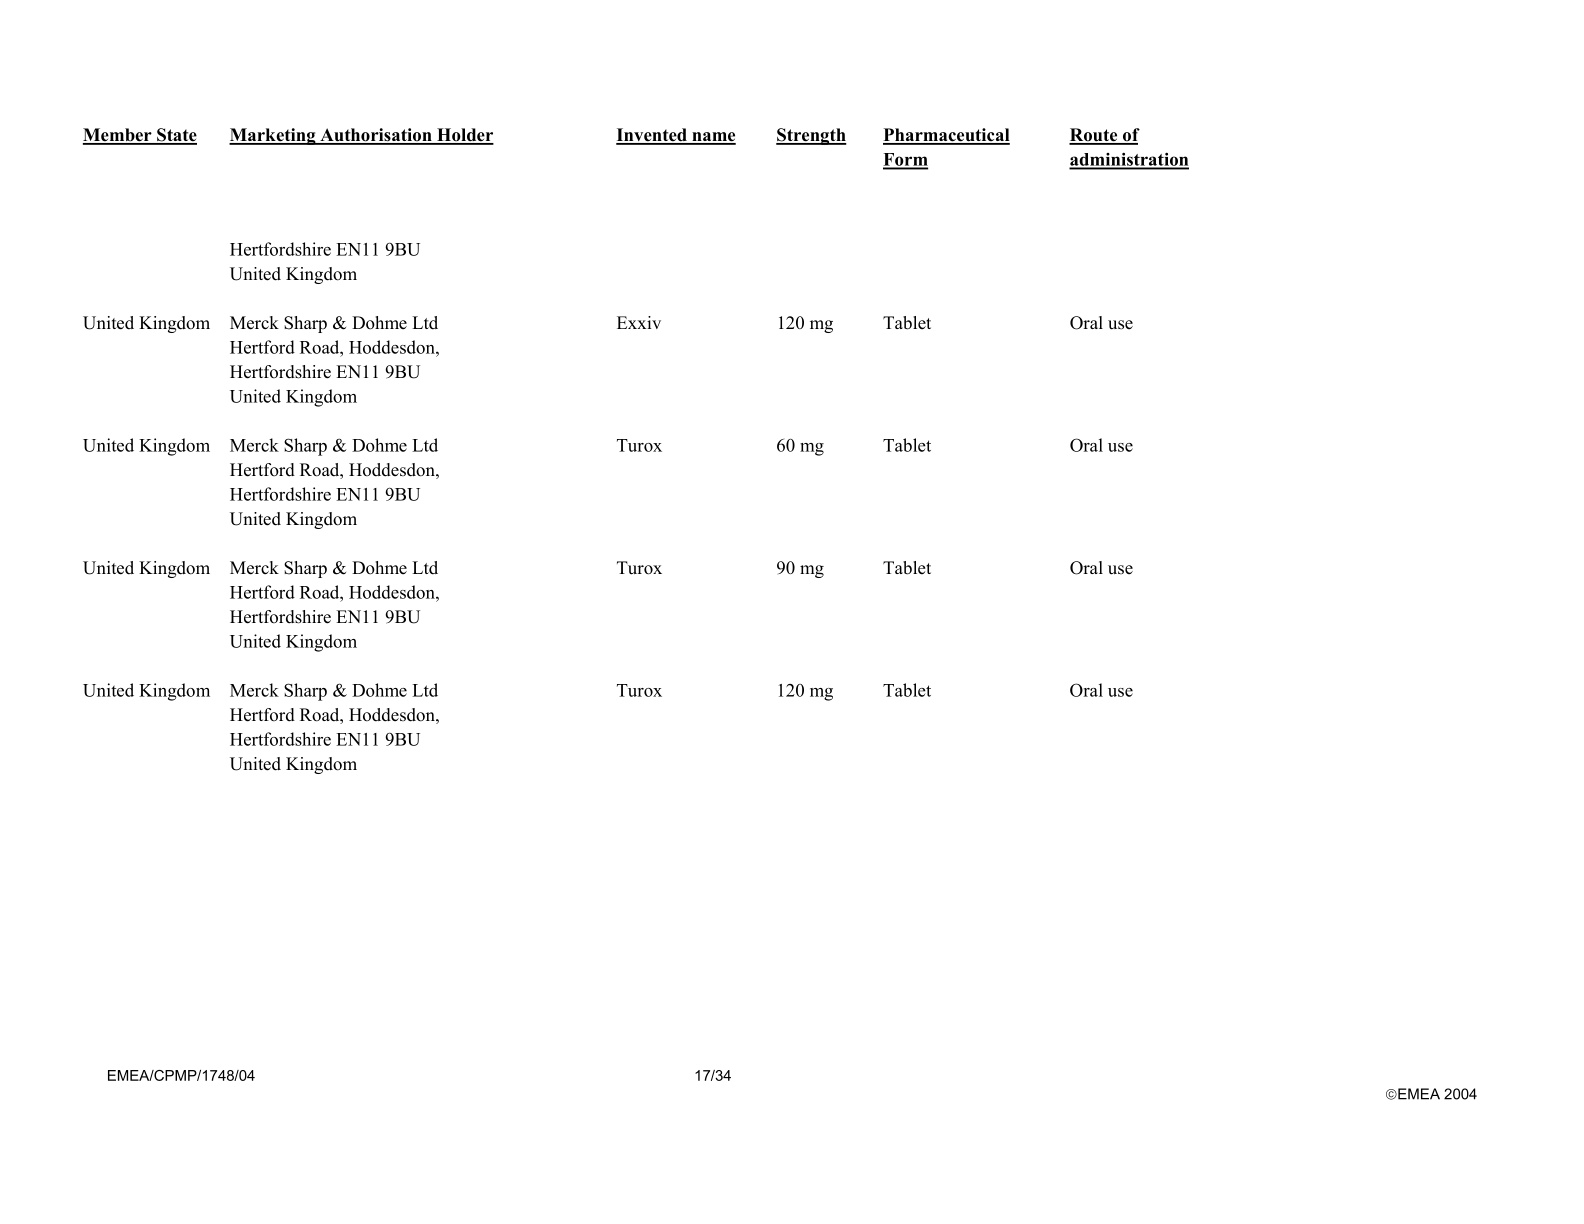nolines: (80, 118, 1192, 777)
